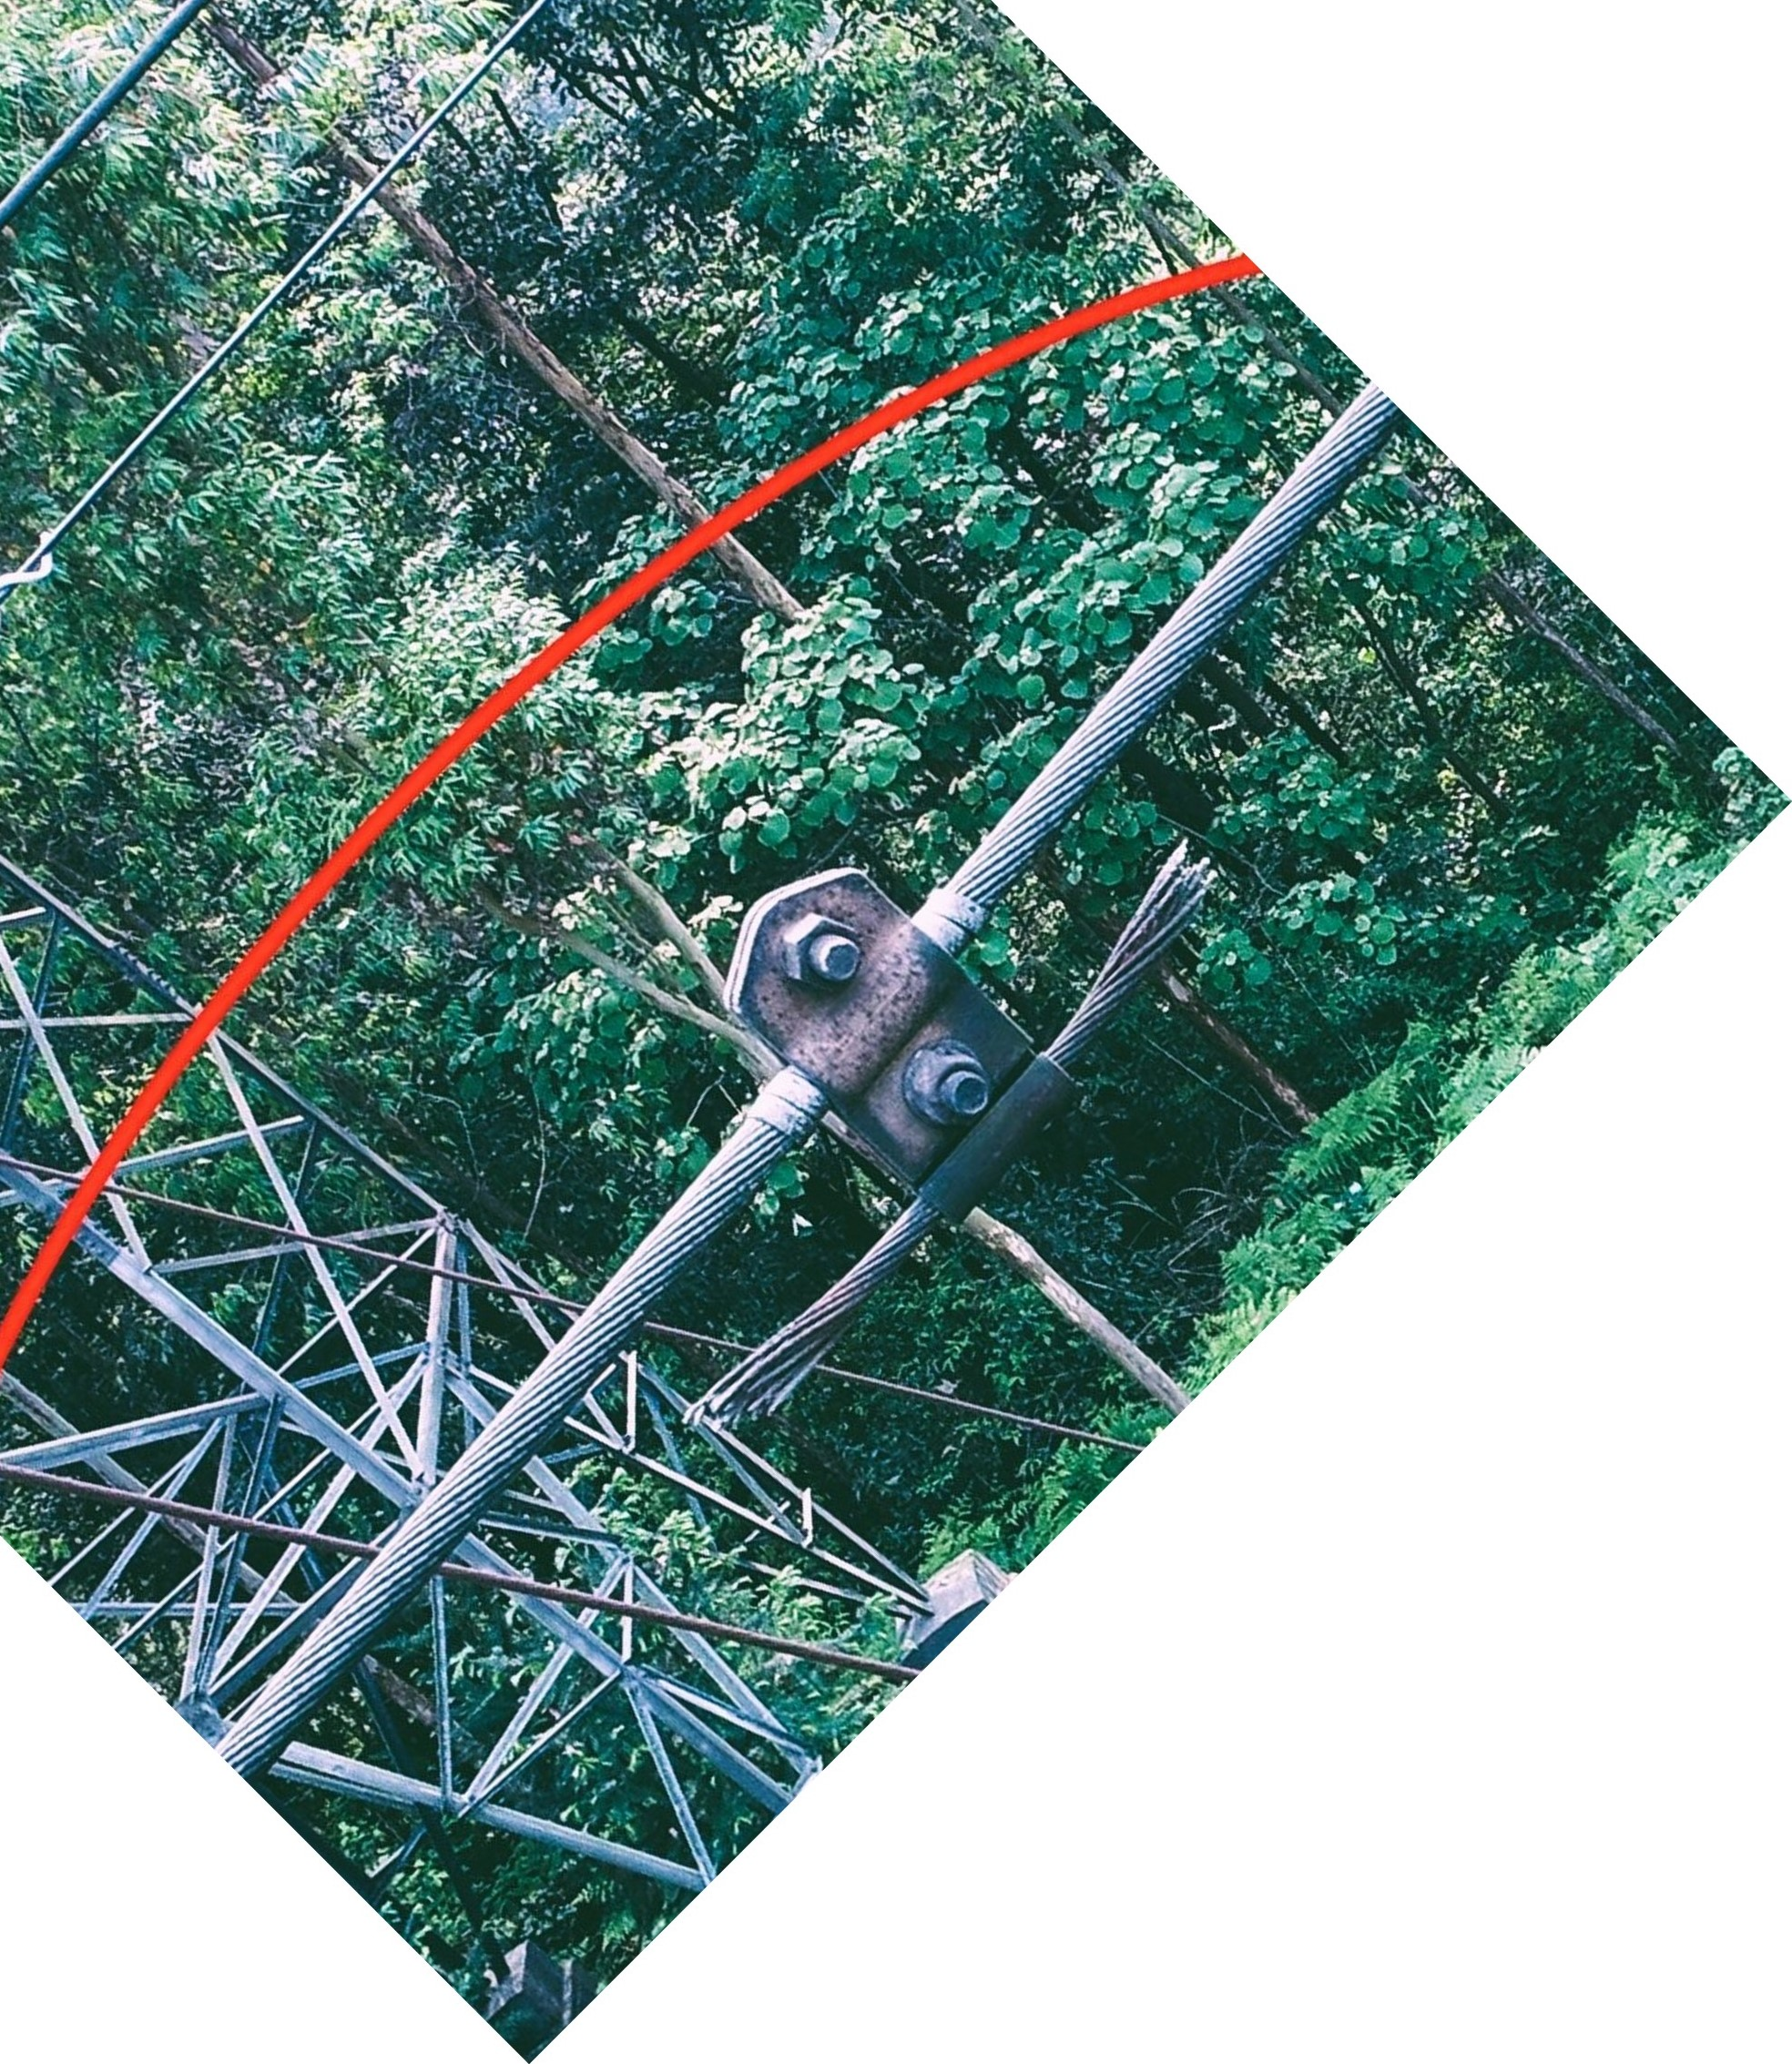Damage of shockproof hammer: (616, 774, 1262, 1474)
